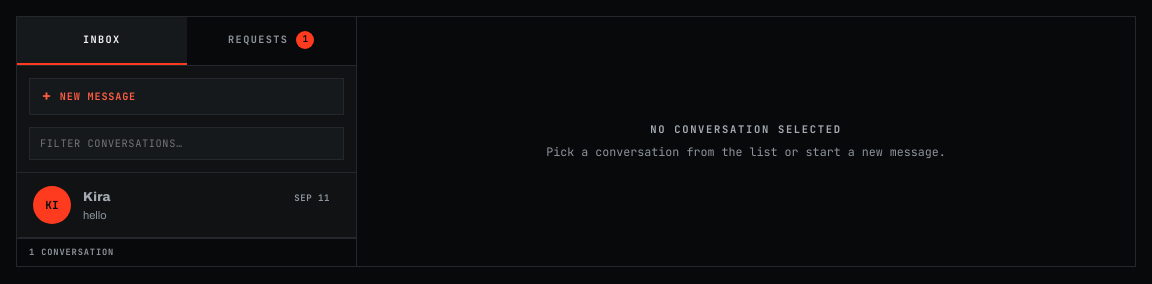
Scenario: MessagingPanel › conversation list › switches between inbox and requests with proper tab semantics
Expected: the text "Kira" is shown, [83,190,111,206]
Click the tab "REQUESTS 1" at (271, 41), box [186,17,356,65]
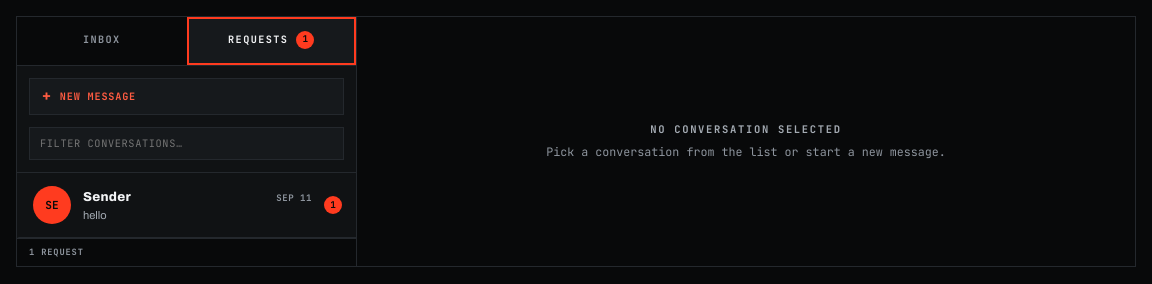
Expected: the text "Sender" is shown, [83,190,131,206]
Expected: the button "Kira" is gone
